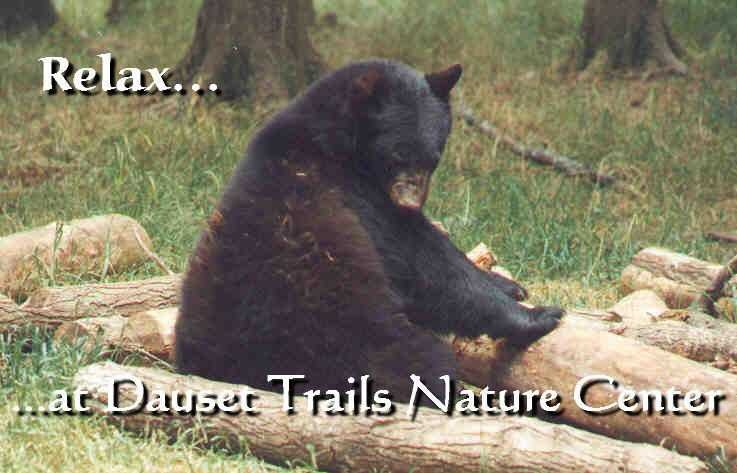bear: (340, 90, 468, 218)
